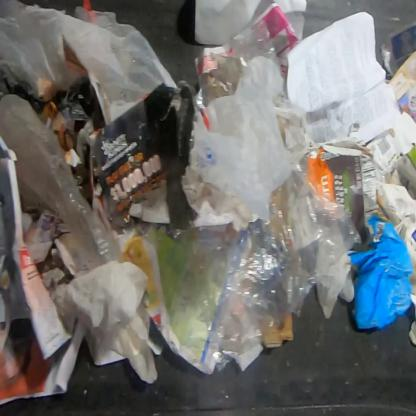cardboard: (261, 314, 295, 350)
soft_plastic: (136, 157, 364, 373), (0, 0, 181, 127), (0, 91, 122, 269), (192, 55, 291, 215), (181, 96, 252, 228), (194, 14, 280, 110), (348, 214, 415, 330), (274, 98, 310, 169), (379, 18, 415, 82)
